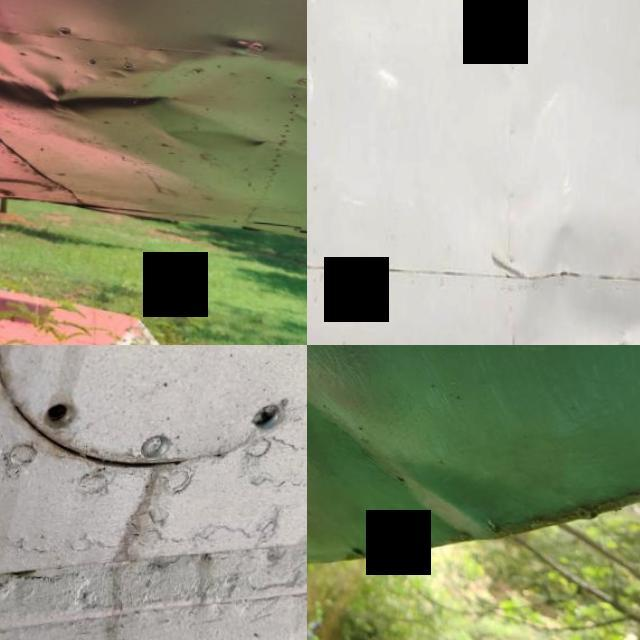Dent: (307, 345, 534, 569), (0, 8, 207, 138), (521, 217, 640, 345)
Missing_Fastener: (25, 380, 95, 449)
